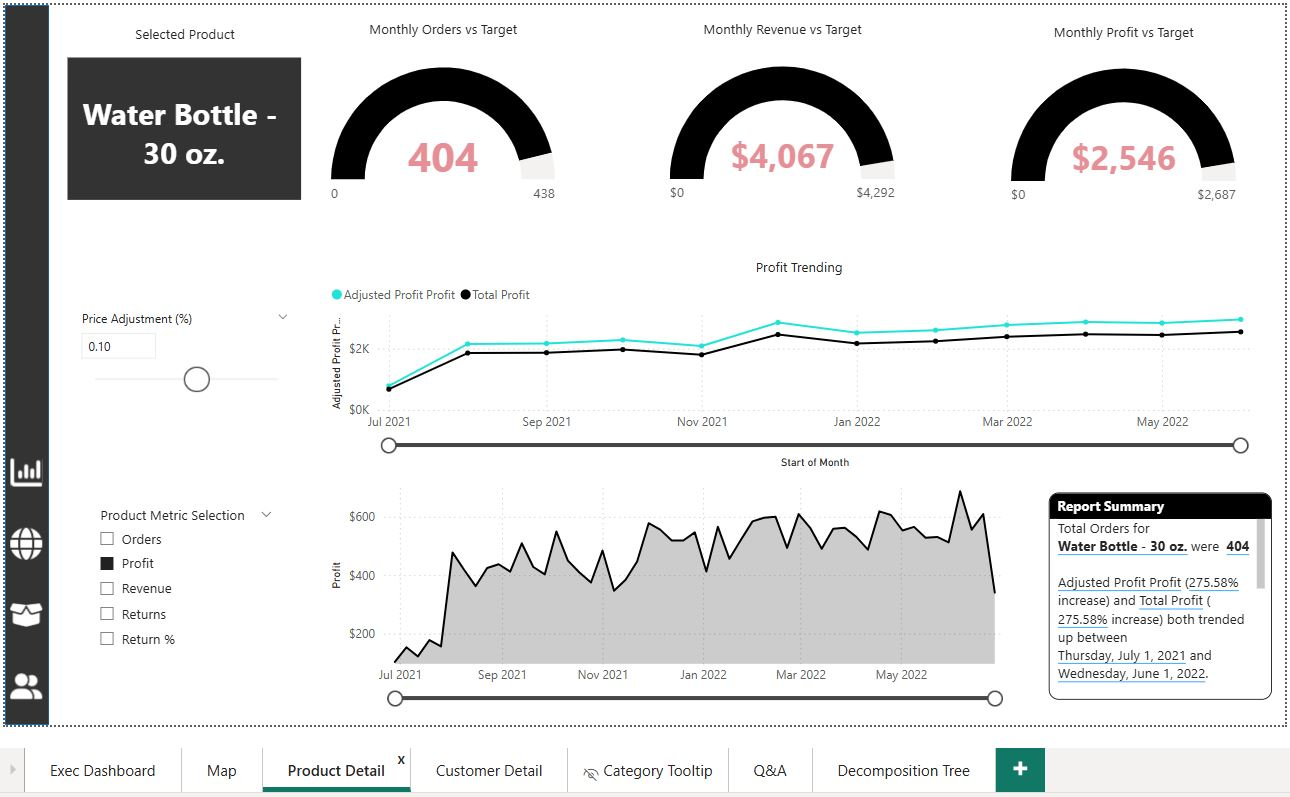

This screenshot's page, from the dashboard's own definition file:
{"tool":"powerbi","page":{"name":"Product Detail","canvas":[1280,720],"ordinal":2},"visuals":[{"type":"shape","box":[0,0,44.3,720],"z":0},{"type":"actionButton","box":[1,590,44.3,40],"z":0,"group":"g1"},{"type":"gauge","title":"Monthly Orders vs Target","fields":{"Y":["Mesure Table.Total Orders"],"MaxValue":["Mesure Table.Order Target"]},"box":[320.8,14.5,234,217.1],"z":1000},{"type":"actionButton","box":[1,447.1,48.9,40],"z":1000,"group":"g1"},{"type":"gauge","title":"Monthly Revenue vs Target","fields":{"Y":["Mesure Table.Total Revenue"],"MaxValue":["Mesure Table.Target Revenue"]},"box":[660.4,14.5,235.2,215.9],"z":2000},{"type":"actionButton","box":[1,661.4,44.3,40],"z":2000,"group":"g1"},{"type":"gauge","title":"Monthly Profit vs Target","fields":{"Y":["Mesure Table.Total Profit"],"MaxValue":["Mesure Table.Profit Target"]},"box":[1001.2,17.5,235,215],"z":3000},{"type":"actionButton","box":[1,518.5,44.3,40],"z":3000,"group":"g1"},{"type":"lineChart","title":" Profit Trending","fields":{"Category":["Calendar Lookup.Date Hierarchy.Start of Year","Calendar Lookup.Date Hierarchy.Start of Month","Calendar Lookup.Date Hierarchy.Start of Week","Calendar Lookup.Date Hierarchy.Date"],"Y":["Mesure Table.Adjusted Profit Profit","Mesure Table.Total Profit"]},"box":[321.4,252.9,945.7,215.7],"z":4000},{"type":"areaChart","title":" Returns  Trending","fields":{"Y":["Mesure Table.Total Revenue"],"Category":["Calendar Lookup.Date Hierarchy.Start of Year","Calendar Lookup.Date Hierarchy.Start of Month","Calendar Lookup.Date Hierarchy.Start of Week","Calendar Lookup.Date Hierarchy.Date"]},"box":[320.9,469.3,699.7,235.3],"z":5000},{"type":"card","fields":{"Values":["Min(Product Lookup.ProductName)"]},"box":[62.5,52.5,233.8,142.5],"z":6000},{"type":"textbox","box":[115,15,130,37.5],"z":7000},{"type":"group","id":"g1","title":"Navigation Buttons","box":[1,447.1,48.9,254.3],"z":8000},{"type":"slicer","fields":{"Values":["Price Adjustment (%).Price Adjustment (%)"]},"box":[64.3,300,231.4,121.4],"z":9000},{"type":"slicer","fields":{"Values":["Product Metric Selection.Product Metric Selection"]},"box":[82,495.8,196.6,189.4],"z":10000},{"type":"textbox","title":"Report Summary","box":[1043.6,487.4,223.2,207.5],"z":11000}]}

Visuals, with their boxes on the page's 1280x720 design canvas (x1, y1, x2, y2). These are canvas units, not pixel positions in the 1290x797 screenshot, which may show the page scaled, cropped or inside an application window:
shape: (0,0,44,720)
actionButton: (1,590,45,630)
"Monthly Orders vs Target" gauge: (321,14,555,232)
actionButton: (1,447,50,487)
"Monthly Revenue vs Target" gauge: (660,14,896,230)
actionButton: (1,661,45,701)
"Monthly Profit vs Target" gauge: (1001,18,1236,232)
actionButton: (1,518,45,558)
" Profit Trending" lineChart: (321,253,1267,469)
" Returns  Trending" areaChart: (321,469,1021,705)
card - Min(Product Lookup.ProductName): (62,52,296,195)
textbox: (115,15,245,52)
"Navigation Buttons" group: (1,447,50,701)
slicer - Price Adjustment (%).Price Adjustment (%): (64,300,296,421)
slicer - Product Metric Selection.Product Metric Selection: (82,496,279,685)
"Report Summary" textbox: (1044,487,1267,695)
